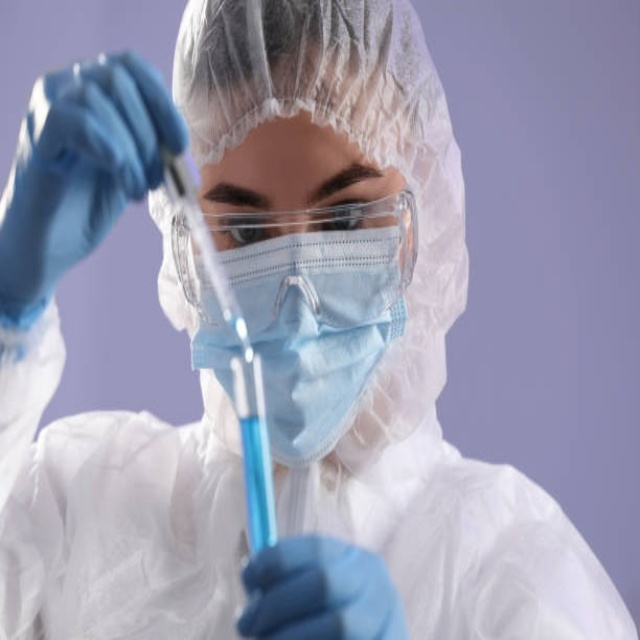Gafas: (170, 187, 420, 327)
Guantes: (0, 49, 191, 334), (235, 532, 411, 639)
Mascara: (185, 197, 413, 469)
